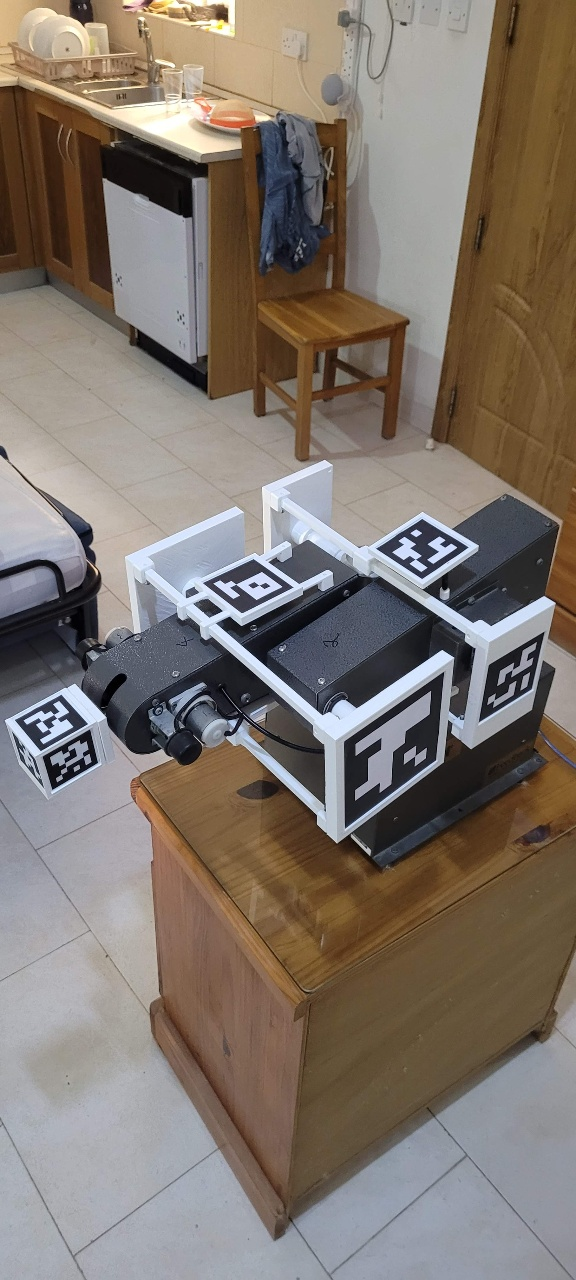Robot: (48, 210, 557, 1084)
